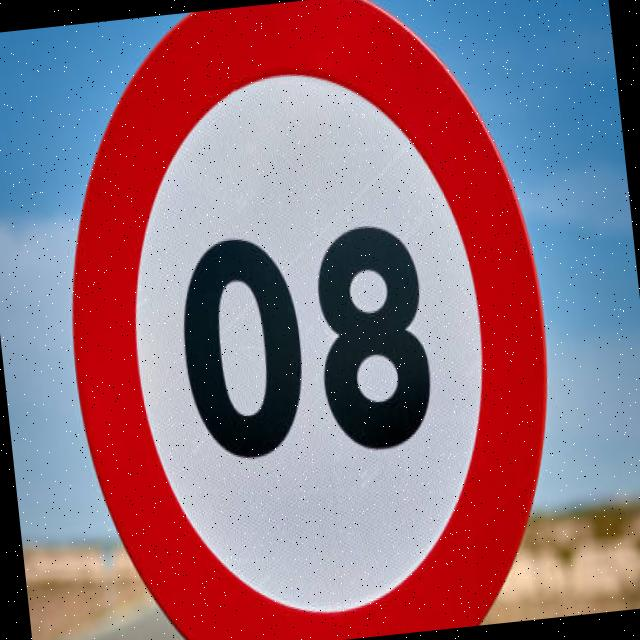speed_limit_80: (37, 0, 580, 640)
